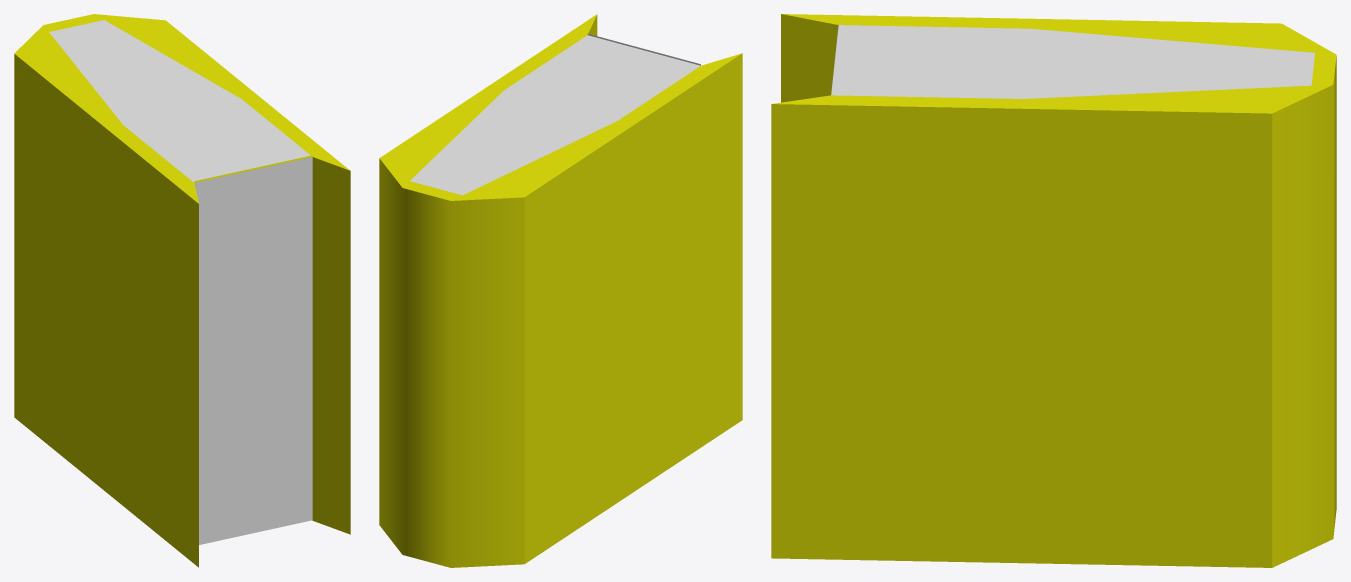
The model's file is Book(Yellow).fbx.
3 renders of one model, left to right at view 1: azimuth 30°, elevation 25°; view 2: azimuth 150°, elevation 25°; view 3: azimuth 270°, elevation 25°, orthographic. The views are drawn at different scales.
Parts seen in each view (by area): view 1: Book_Yellow; view 2: Book_Yellow; view 3: Book_Yellow.
Part boxes in pixels (x1,y1,x2,y2): Book_Yellow: [14, 14, 350, 567]; Book_Yellow: [379, 14, 742, 567]; Book_Yellow: [771, 14, 1336, 567].
Size of the model in its own units: 0.1932 by 0.4128 by 0.4635.
